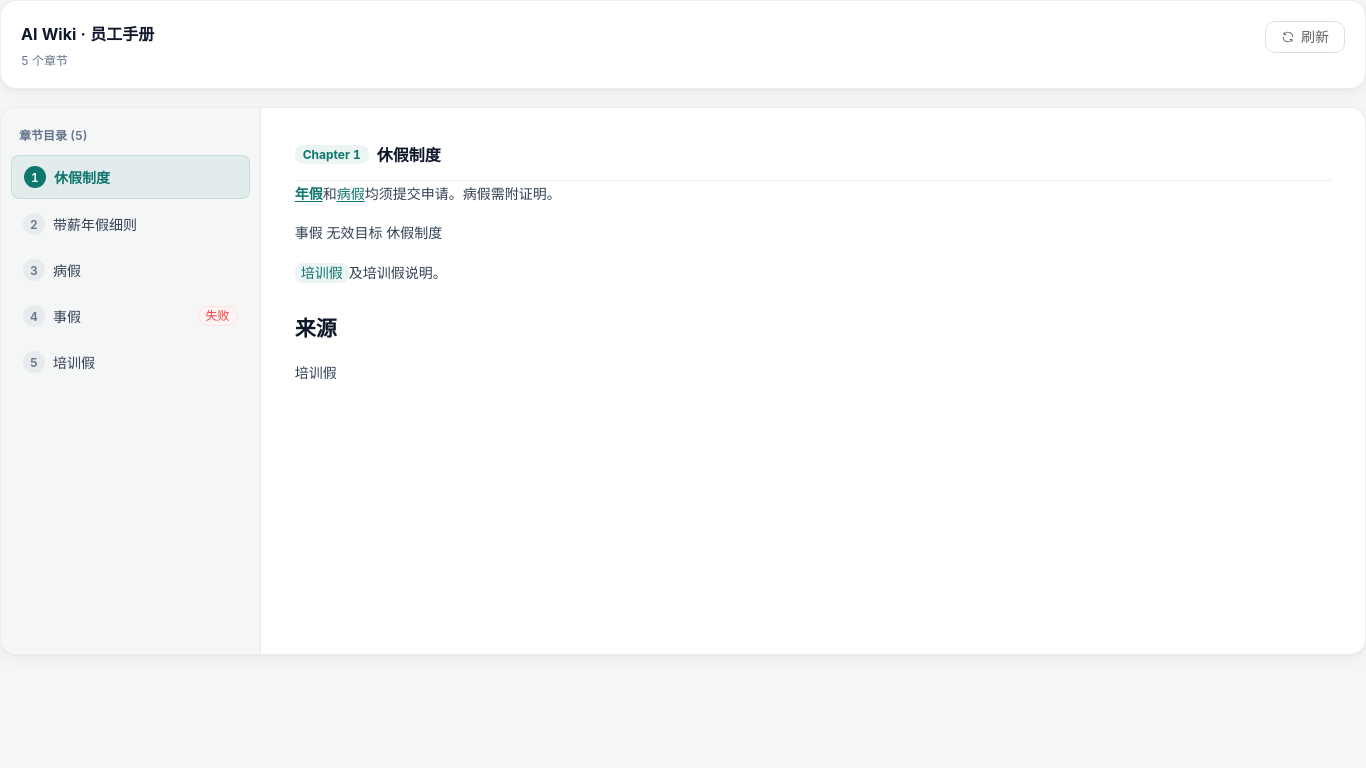
正文链接打开同库章节，兼容旧正文、改名和失效目标
Expected: the element with class "md-body" shows "事假 无效目标 休假制度", [295, 224, 442, 241]
Expected: the text "培训假" in the row of "培训假说明" is shown, [301, 264, 343, 280]
Click the link "年假". click: (309, 194)
box: [295, 185, 323, 202]
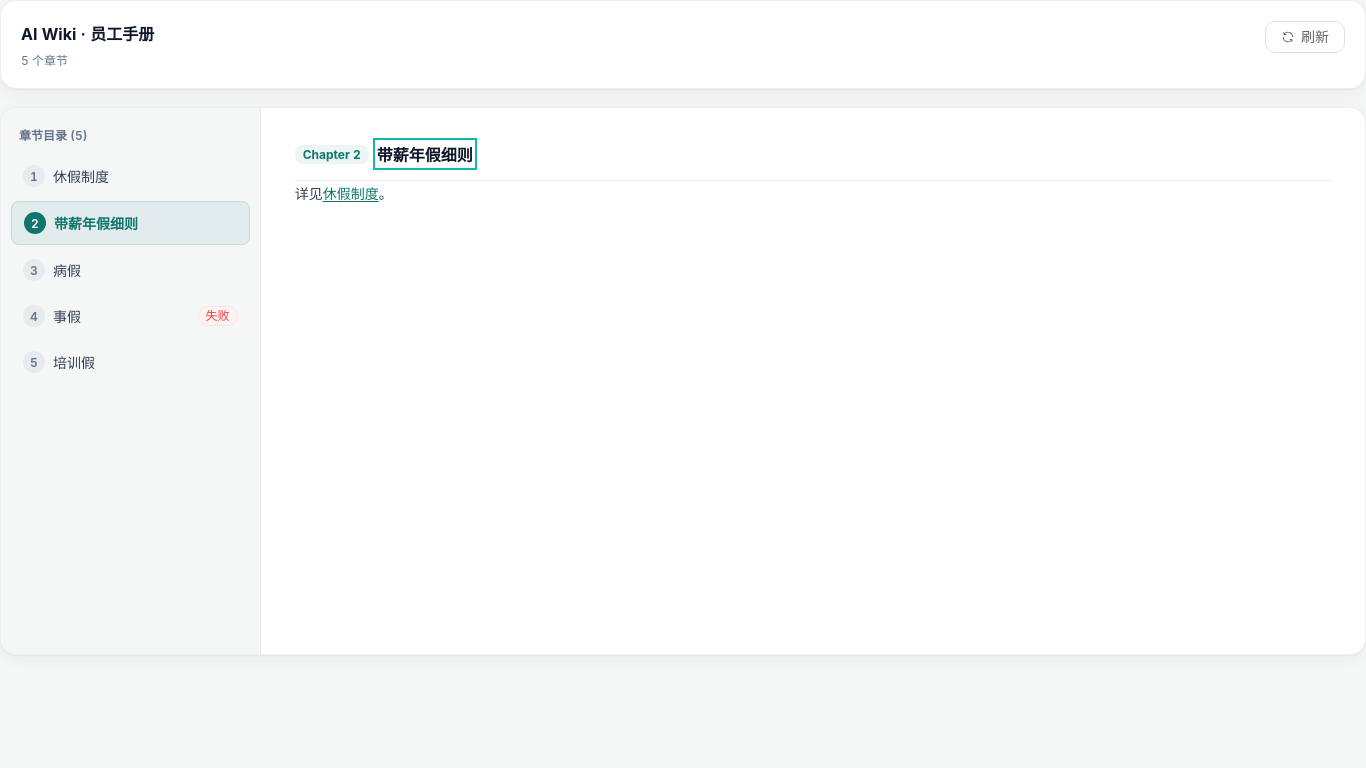
Expected: the text "带薪年假细则" is shown, [54, 215, 138, 232]
Result: the heading "带薪年假细则" is shown at [377, 142, 473, 166]
